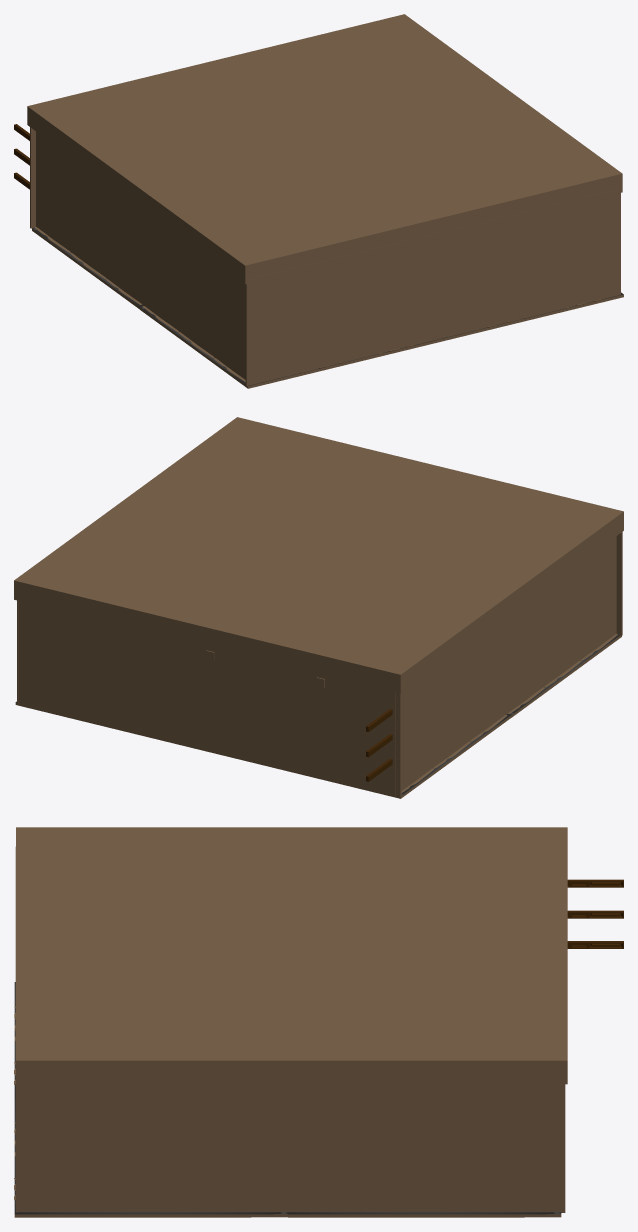
File: StoreInteriorUnityExportVer.fbx
3 views of the same model, one above another, from view 1: azimuth 30°, elevation 25°; view 2: azimuth 150°, elevation 25°; view 3: azimuth 270°, elevation 25° (orthographic). The views are drawn at different scales.
Visible parts, largest first — view 1: Cube, StoreLayoutTest, GroundBase.003, GroundBase.002, GroundBase.001; view 2: Cube, StoreLayoutTest, GroundBase.002, GroundBase.003; view 3: Cube, StoreLayoutTest, GroundBase.001, GroundBase.
Boxes of the visible parts, bbox=[...] form: Cube: bbox=[27, 14, 622, 284]; StoreLayoutTest: bbox=[30, 127, 620, 386]; GroundBase.003: bbox=[140, 306, 434, 388]; GroundBase.002: bbox=[32, 227, 143, 309]; GroundBase.001: bbox=[435, 292, 623, 343]; Cube: bbox=[14, 417, 623, 693]; StoreLayoutTest: bbox=[17, 532, 622, 797]; GroundBase.002: bbox=[207, 714, 511, 798]; GroundBase.003: bbox=[507, 634, 621, 717]; Cube: bbox=[16, 827, 567, 1084]; StoreLayoutTest: bbox=[15, 847, 565, 1212]; GroundBase.001: bbox=[14, 1098, 287, 1217]; GroundBase: bbox=[288, 1212, 561, 1217].
Size of the model in its own units: 4643 by 4211 by 1317.
